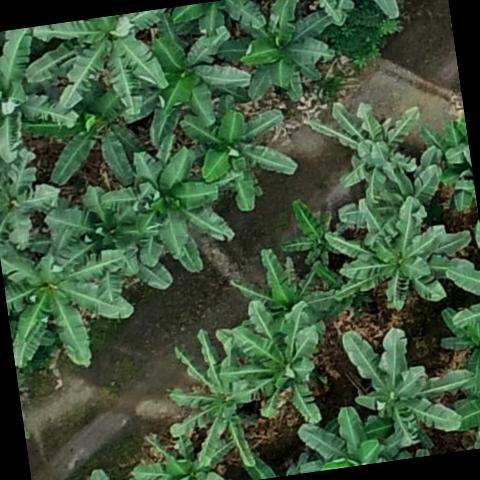Banana-plant: (0, 229, 135, 374), (342, 320, 479, 450), (114, 26, 256, 146), (18, 9, 172, 118), (44, 179, 172, 305), (334, 203, 477, 311), (218, 301, 335, 431), (128, 140, 236, 276), (304, 92, 436, 202), (18, 82, 146, 194), (181, 98, 302, 213), (220, 0, 341, 113), (158, 328, 252, 466), (0, 22, 81, 162), (228, 243, 330, 338), (290, 407, 406, 474), (0, 143, 60, 244), (132, 429, 237, 480), (280, 199, 347, 269), (439, 303, 480, 391), (448, 356, 480, 451)
